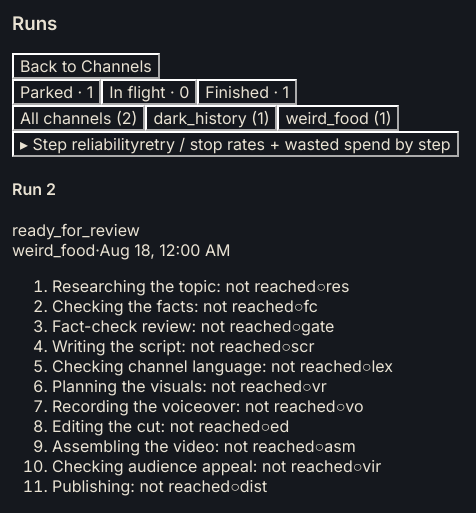
Test: RunsHub archive controls › names an active channel filter in a lifecycle empty state and offers to clear it
Click the button "weird_food (1)".
click(338, 118)  # box [278,105,400,131]
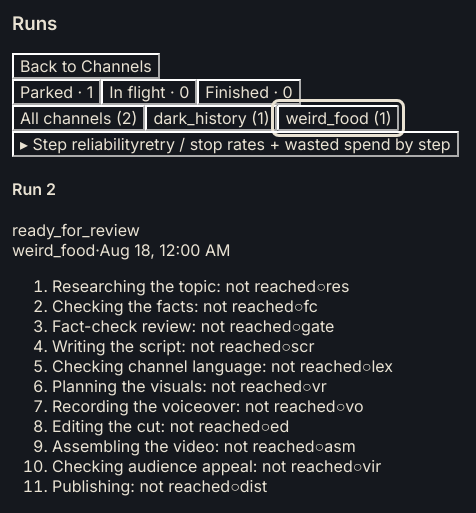
Click the tab named "Finished 0".
click(249, 92)  # box [197,79,301,105]
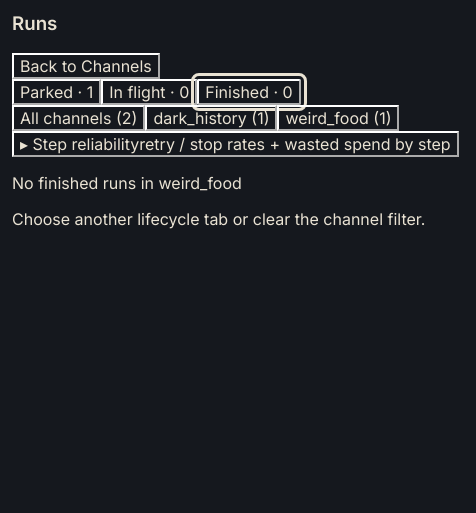
expect the text "No finished runs in weird_food" is shown: met, box [12,173,242,193]
expect the text "Choose another lifecycle tab or clear the channel filter." is shown: met, box [12,209,426,229]
